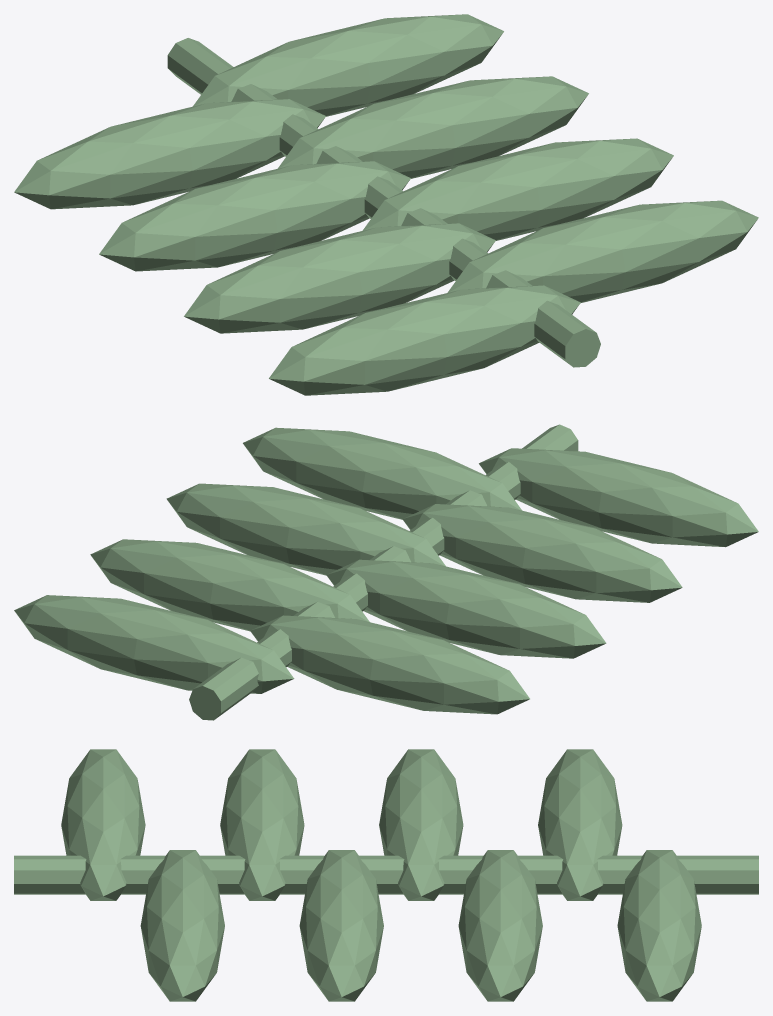
The model's file is fern.glb.
3 renders of one model, top to bottom at view 1: azimuth 30°, elevation 25°; view 2: azimuth 150°, elevation 25°; view 3: azimuth 270°, elevation 25°, orthographic. The views are drawn at different scales.
Parts seen in each view (by area): view 1: world; view 2: world; view 3: world.
Boxes of the visible parts, x1,y1,x2,y2 form: world: (14, 14, 758, 395); world: (14, 424, 758, 720); world: (14, 749, 758, 1001).
Size of the model in its own units: 1.16 by 0.16 by 1.5.
